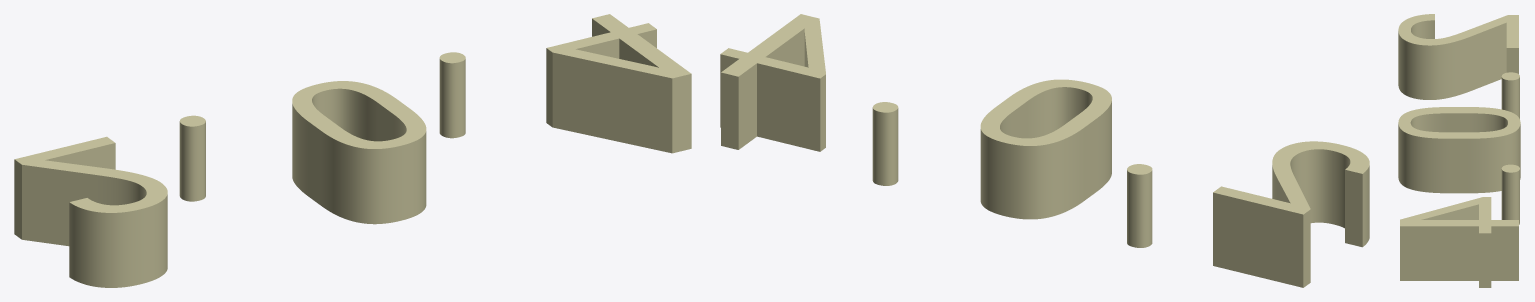
Rendered from version.glb.
3 renders of one model, left to right at view 1: azimuth 30°, elevation 25°; view 2: azimuth 150°, elevation 25°; view 3: azimuth 270°, elevation 25°, orthographic. The views are drawn at different scales.
Visible parts, largest first — view 1: geometry_0; view 2: geometry_0; view 3: geometry_0.
Boxes of the visible parts, left/top/right/bottom form: geometry_0: left=14, top=14, right=691, bottom=287; geometry_0: left=720, top=14, right=1369, bottom=287; geometry_0: left=1398, top=14, right=1520, bottom=287.
Bounding box in the file's own units: 172 × 20 × 40.54.
